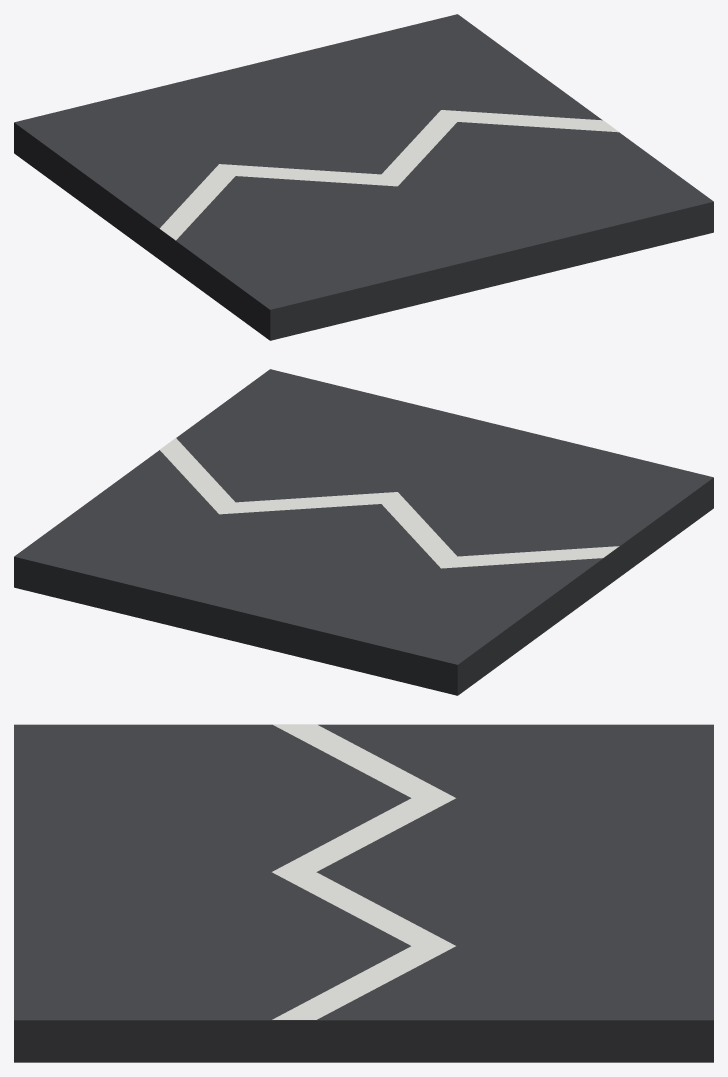
The model's file is SC_Gnd_Road_Zigzag_3x3.gltf.
3 renders of one model, top to bottom at view 1: azimuth 30°, elevation 25°; view 2: azimuth 150°, elevation 25°; view 3: azimuth 270°, elevation 25°, orthographic. The views are drawn at different scales.
Visible parts, largest first — view 1: SC_Gnd_Road_Zigzag_3x3; view 2: SC_Gnd_Road_Zigzag_3x3; view 3: SC_Gnd_Road_Zigzag_3x3.
Part boxes in pixels (x1=…): SC_Gnd_Road_Zigzag_3x3: x1=14, y1=14, x2=713, y2=340; SC_Gnd_Road_Zigzag_3x3: x1=14, y1=369, x2=713, y2=695; SC_Gnd_Road_Zigzag_3x3: x1=14, y1=724, x2=713, y2=1062.
Bounding box in the file's own units: 3 × 0.202 × 3.
1 material, 1 textured.
